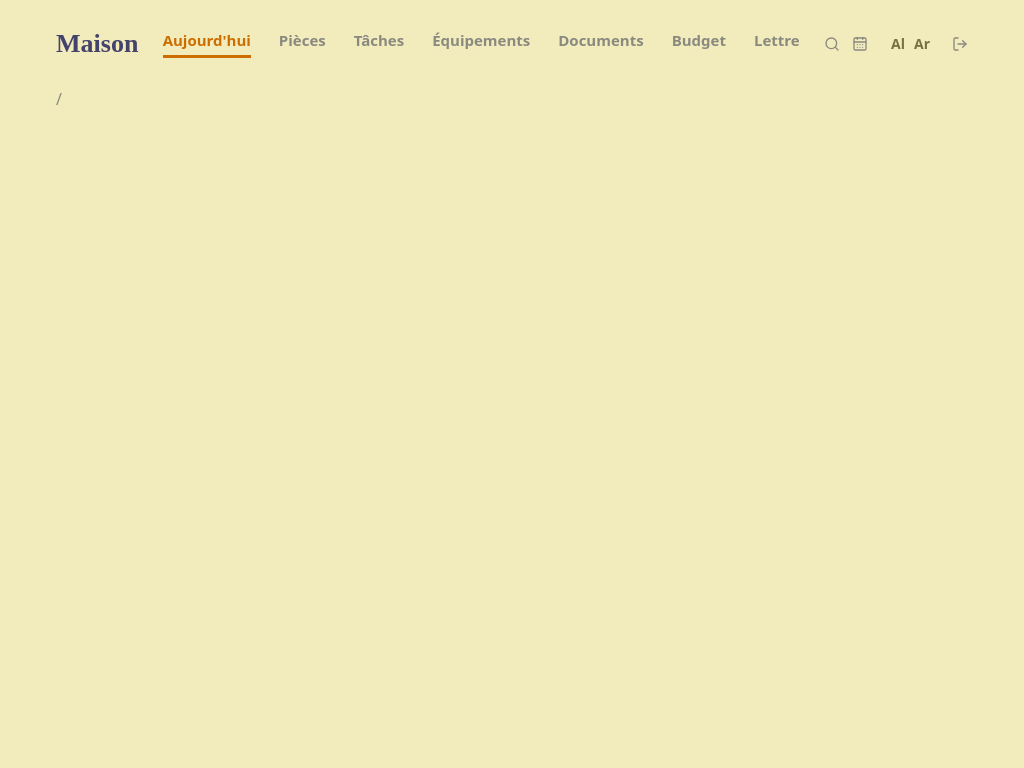
« / » ouvre la palette ; un document mène à sa fiche
Type keys "/"
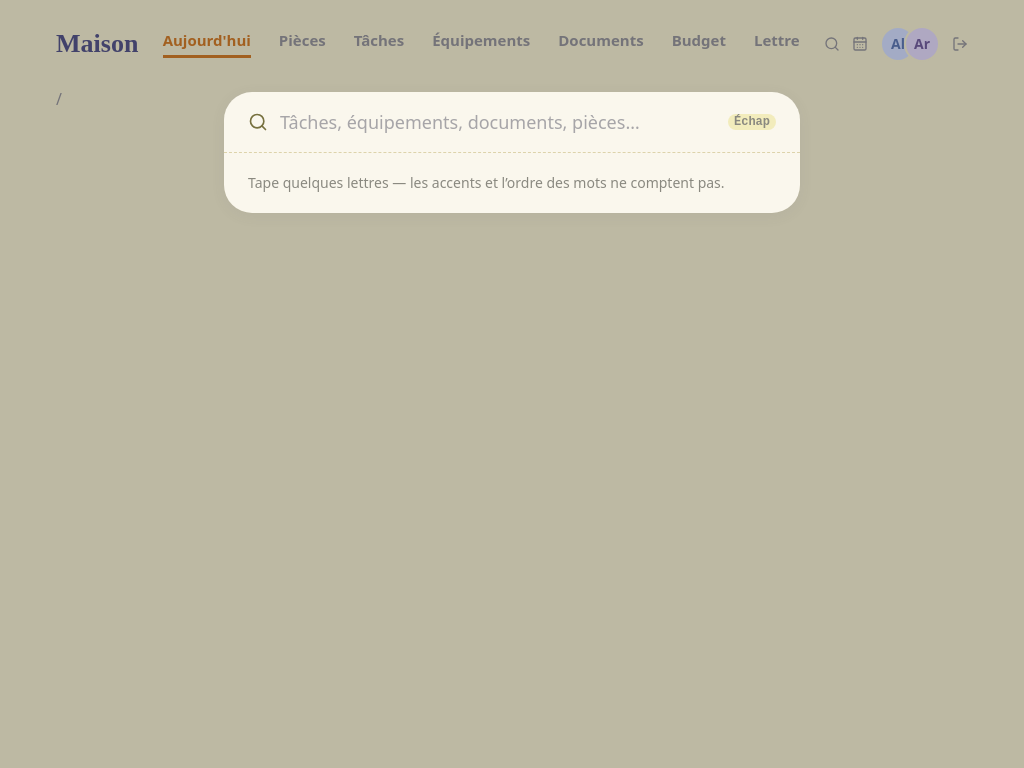
Type "inspection" into the dropdown named "Chercher dans la maison".
click(498, 122); type("inspection")  # box [280, 108, 716, 136]
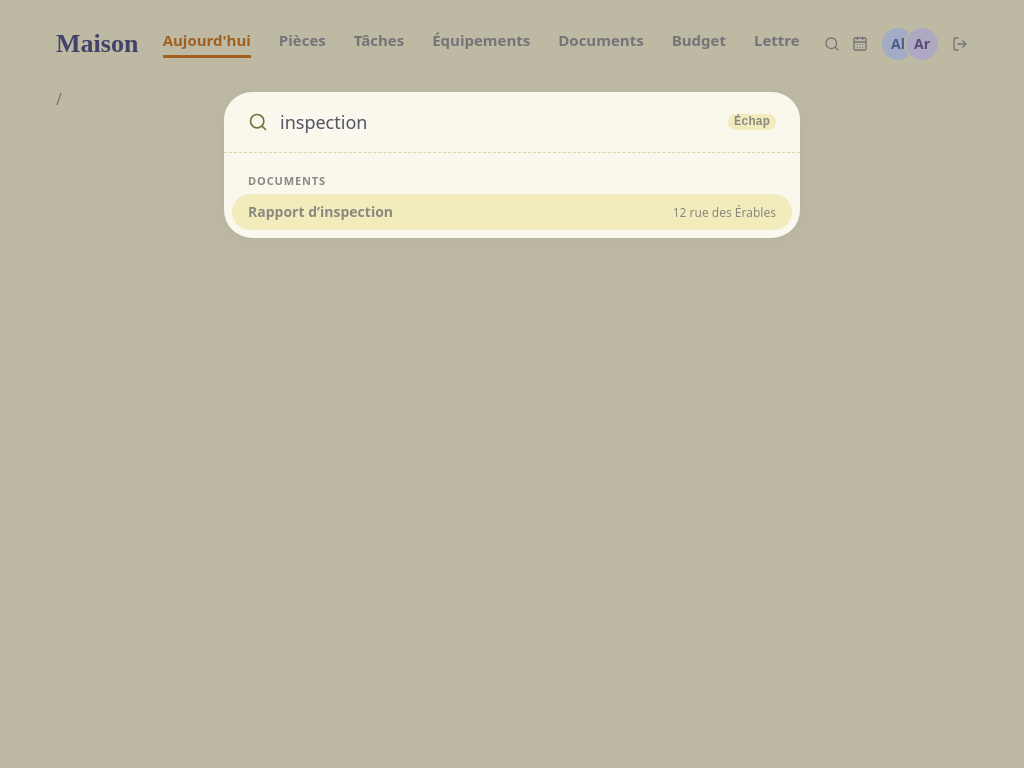
Check: the option "Rapport d’inspection 12 rue des Érables" is shown, box [232, 194, 792, 230]
Press Enter
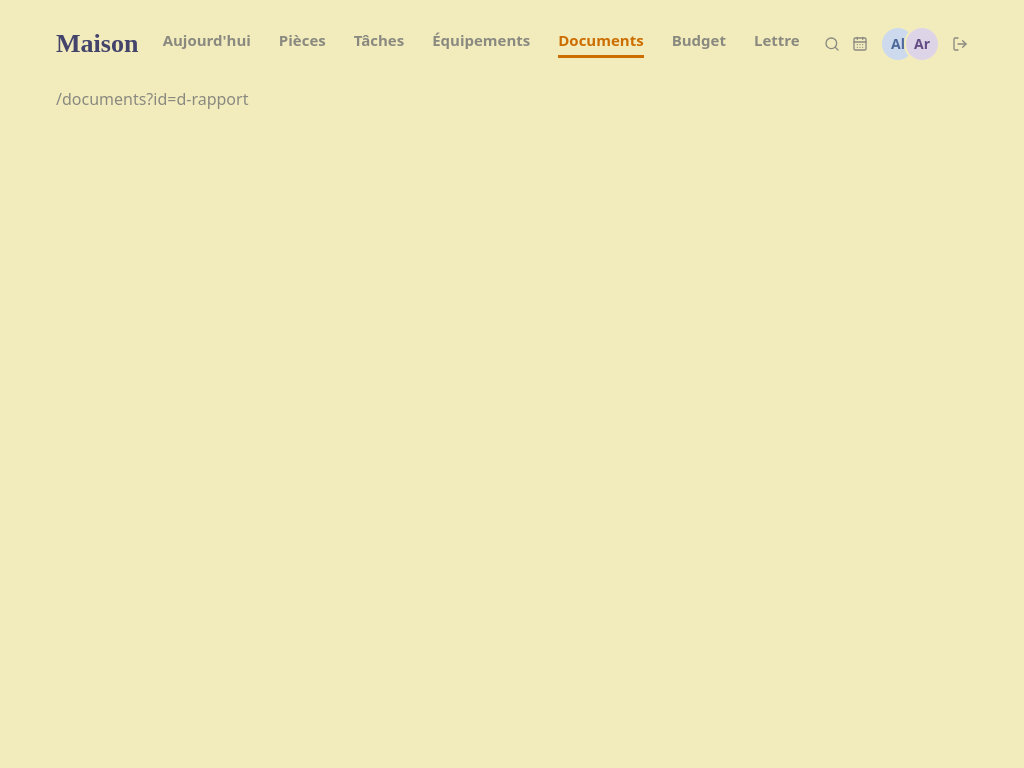
Check: the text with test id "emplacement" reads "/documents?id=d-rapport", box [56, 88, 248, 110]
Check: the dialog "Recherche" is gone
